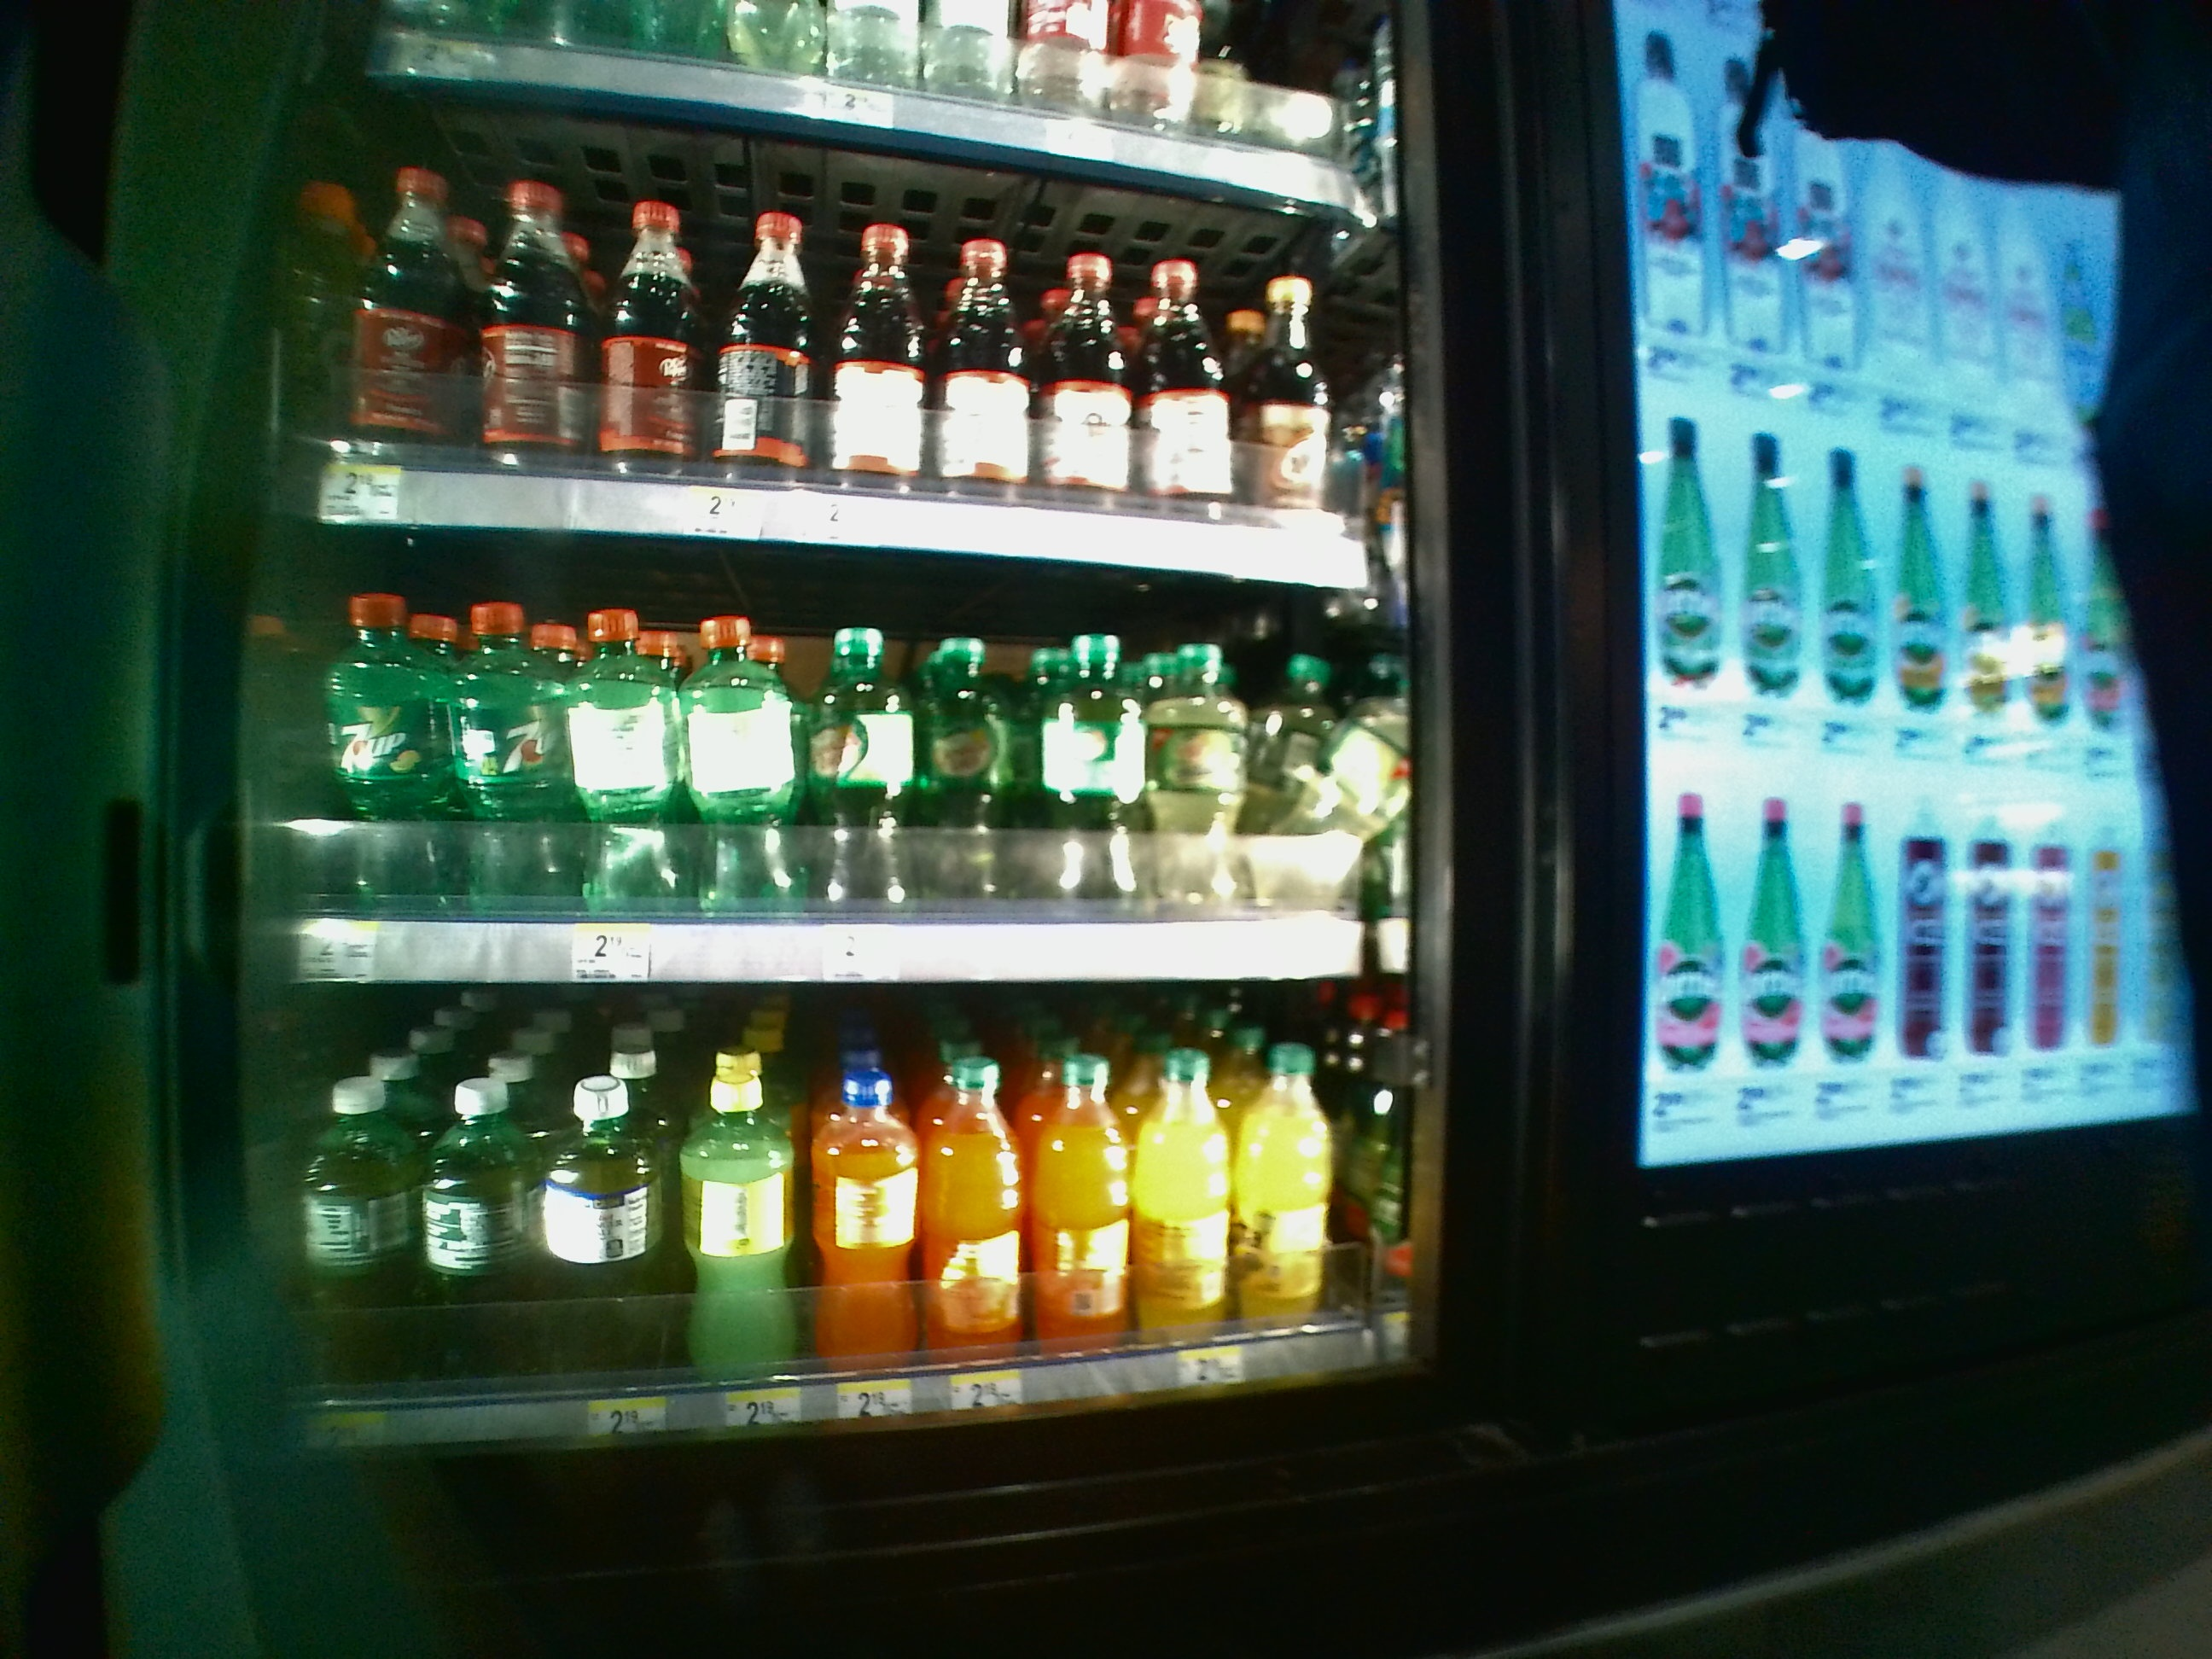shelf: (284, 979, 1435, 1457), (280, 523, 1433, 978)
